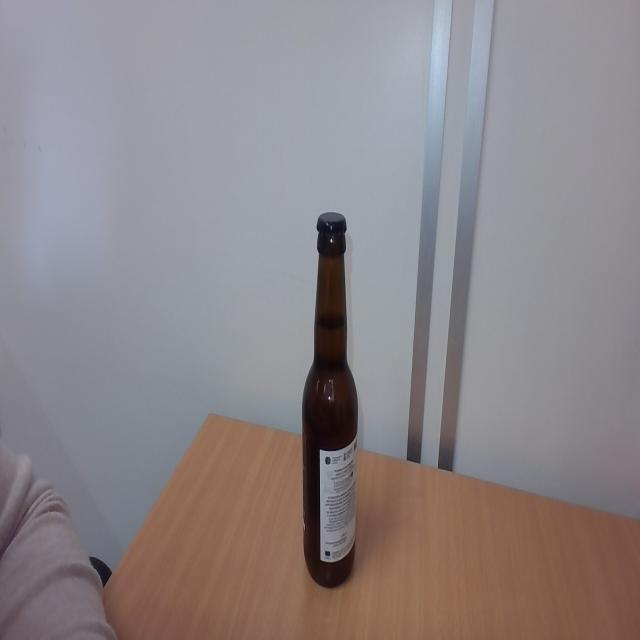Bottle: (301, 240, 358, 590)
Cap: (315, 210, 348, 236)
Label: (316, 448, 360, 562)
